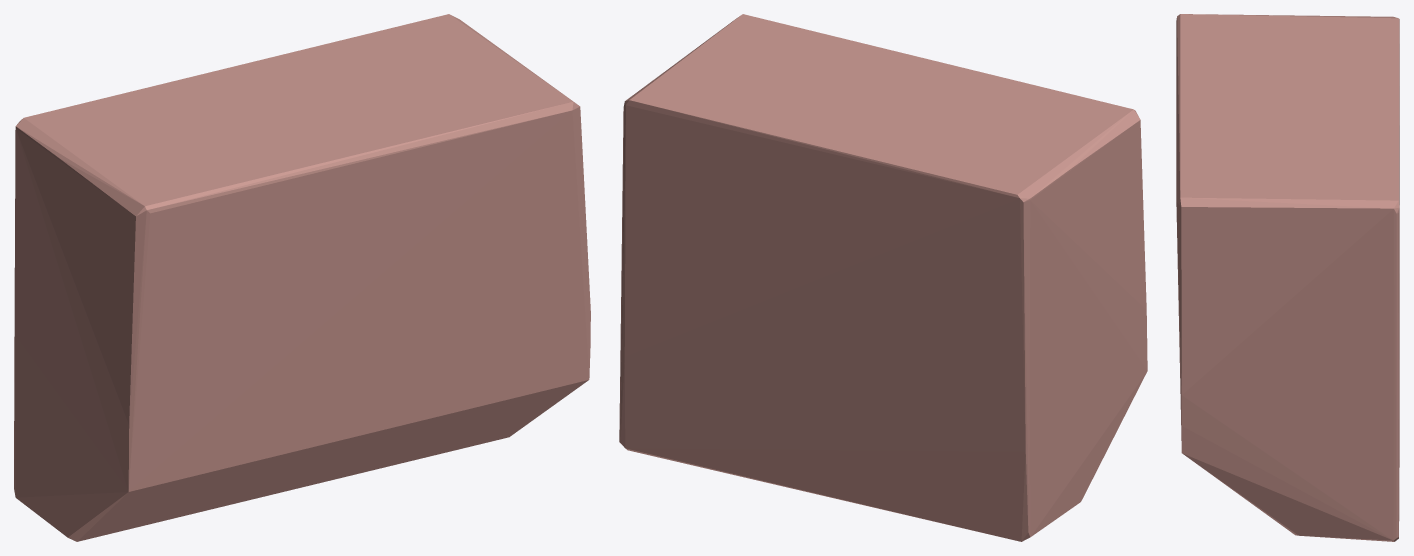
The model's file is box_cardboard_open_a01.glb.
3 renders of one model, left to right at view 1: azimuth 30°, elevation 25°; view 2: azimuth 150°, elevation 25°; view 3: azimuth 270°, elevation 25°, orthographic. The views are drawn at different scales.
Visible parts, largest first — view 1: geometry_0; view 2: geometry_0; view 3: geometry_0.
Boxes of the visible parts, x1,y1,x2,y2 form: geometry_0: (14, 14, 590, 541); geometry_0: (619, 14, 1147, 541); geometry_0: (1176, 14, 1399, 541).
Bounding box in the file's own units: 0.4796 × 0.3864 × 0.2283.
